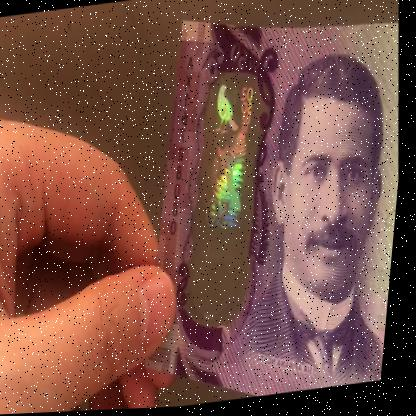50F: (182, 74, 282, 313)
